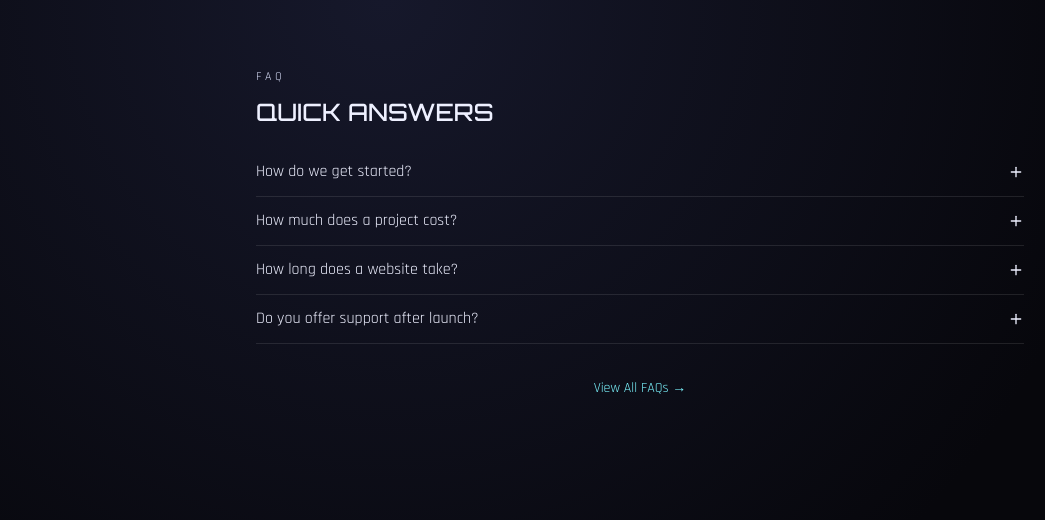
only one FAQ is open at a time
This screenshot has width=1045, height=520.
What coordinates should you click on to do the following:
click the button "How do we get started?"
I would click on:
 (334, 172)
Its box is [256,160,1024,184].
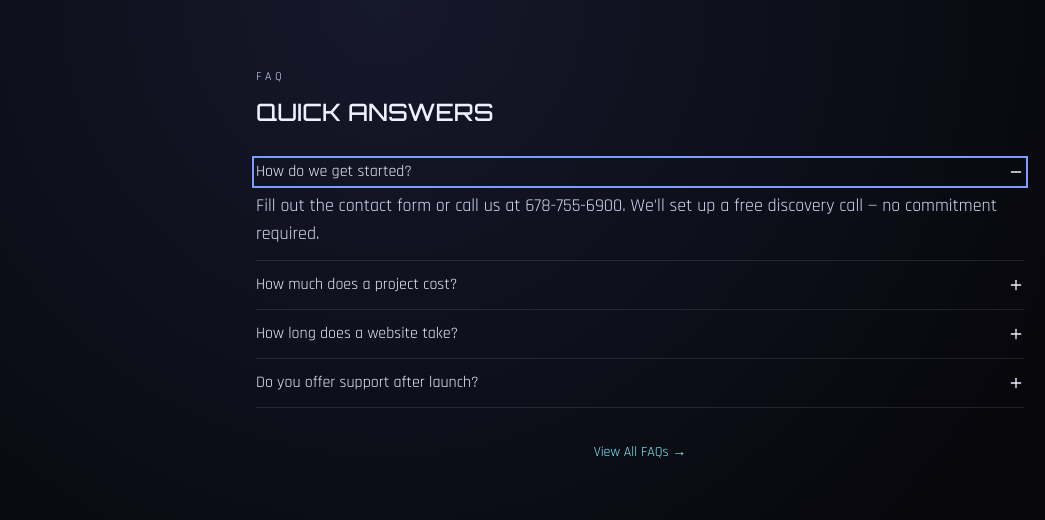
Expected: the button "How do we get started?" is expanded, [256,160,1024,184]
What coordinates should you click on to do the following:
click the button "How much does a project cost?"
I would click on:
 (357, 284)
Its box is [256,273,1024,297].
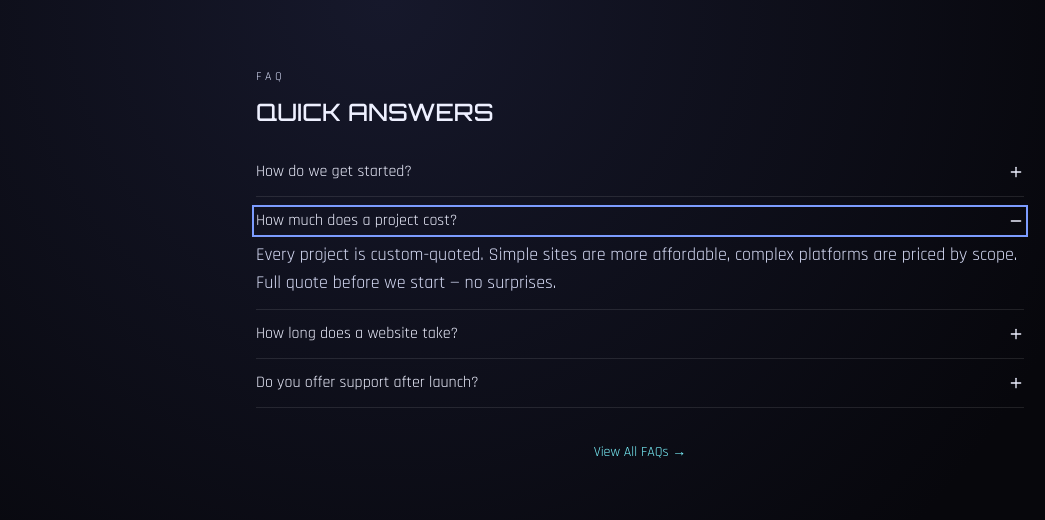
Expected: the button "How do we get started?" is collapsed, [256,160,1024,184]
Expected: the button "How much does a project cost?" is expanded, [256,209,1024,233]
